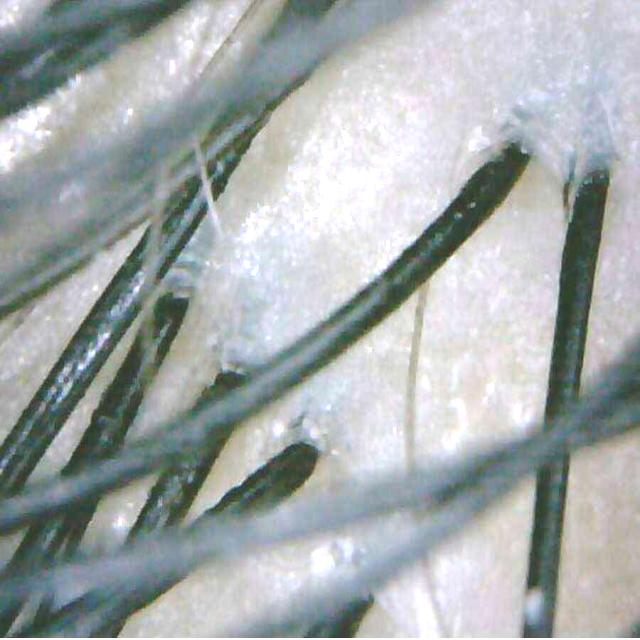o: (281, 128, 401, 241)
